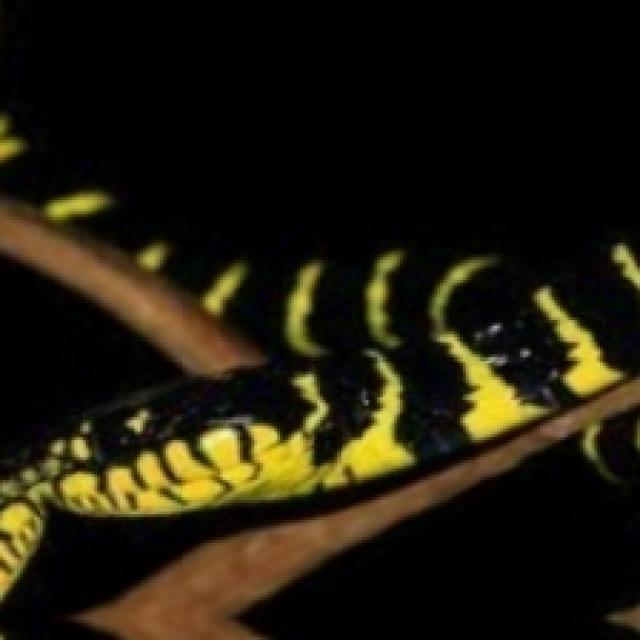mangrove cat snake: (0, 116, 640, 619), (560, 408, 639, 541)
